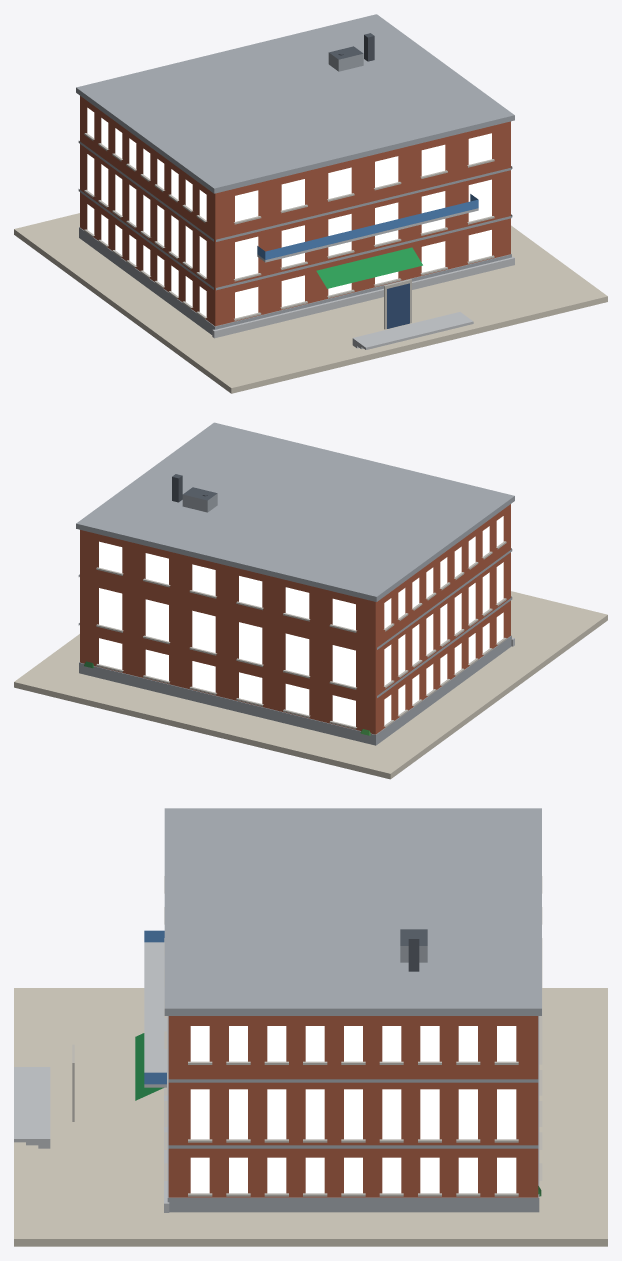
The picture shows the model from 3 angles, top to bottom: view 1: azimuth 30°, elevation 25°; view 2: azimuth 150°, elevation 25°; view 3: azimuth 270°, elevation 25°; orthographic projection. The views are drawn at different scales.
Parts seen in each view (by area): view 1: b03_x2; view 2: b03_x2; view 3: b03_x2.
Boxes of the visible parts, x1=… form: b03_x2: x1=14, y1=14, x2=607, y2=393; b03_x2: x1=14, y1=422, x2=607, y2=779; b03_x2: x1=14, y1=808, x2=607, y2=1246.
Bounding box in the file's own units: 1.96 × 0.905 × 1.96.
